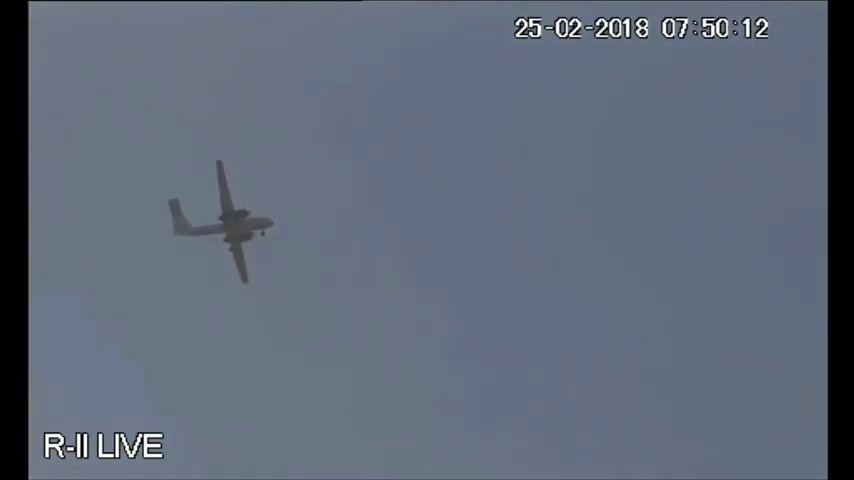military drone: (167, 160, 273, 283)
